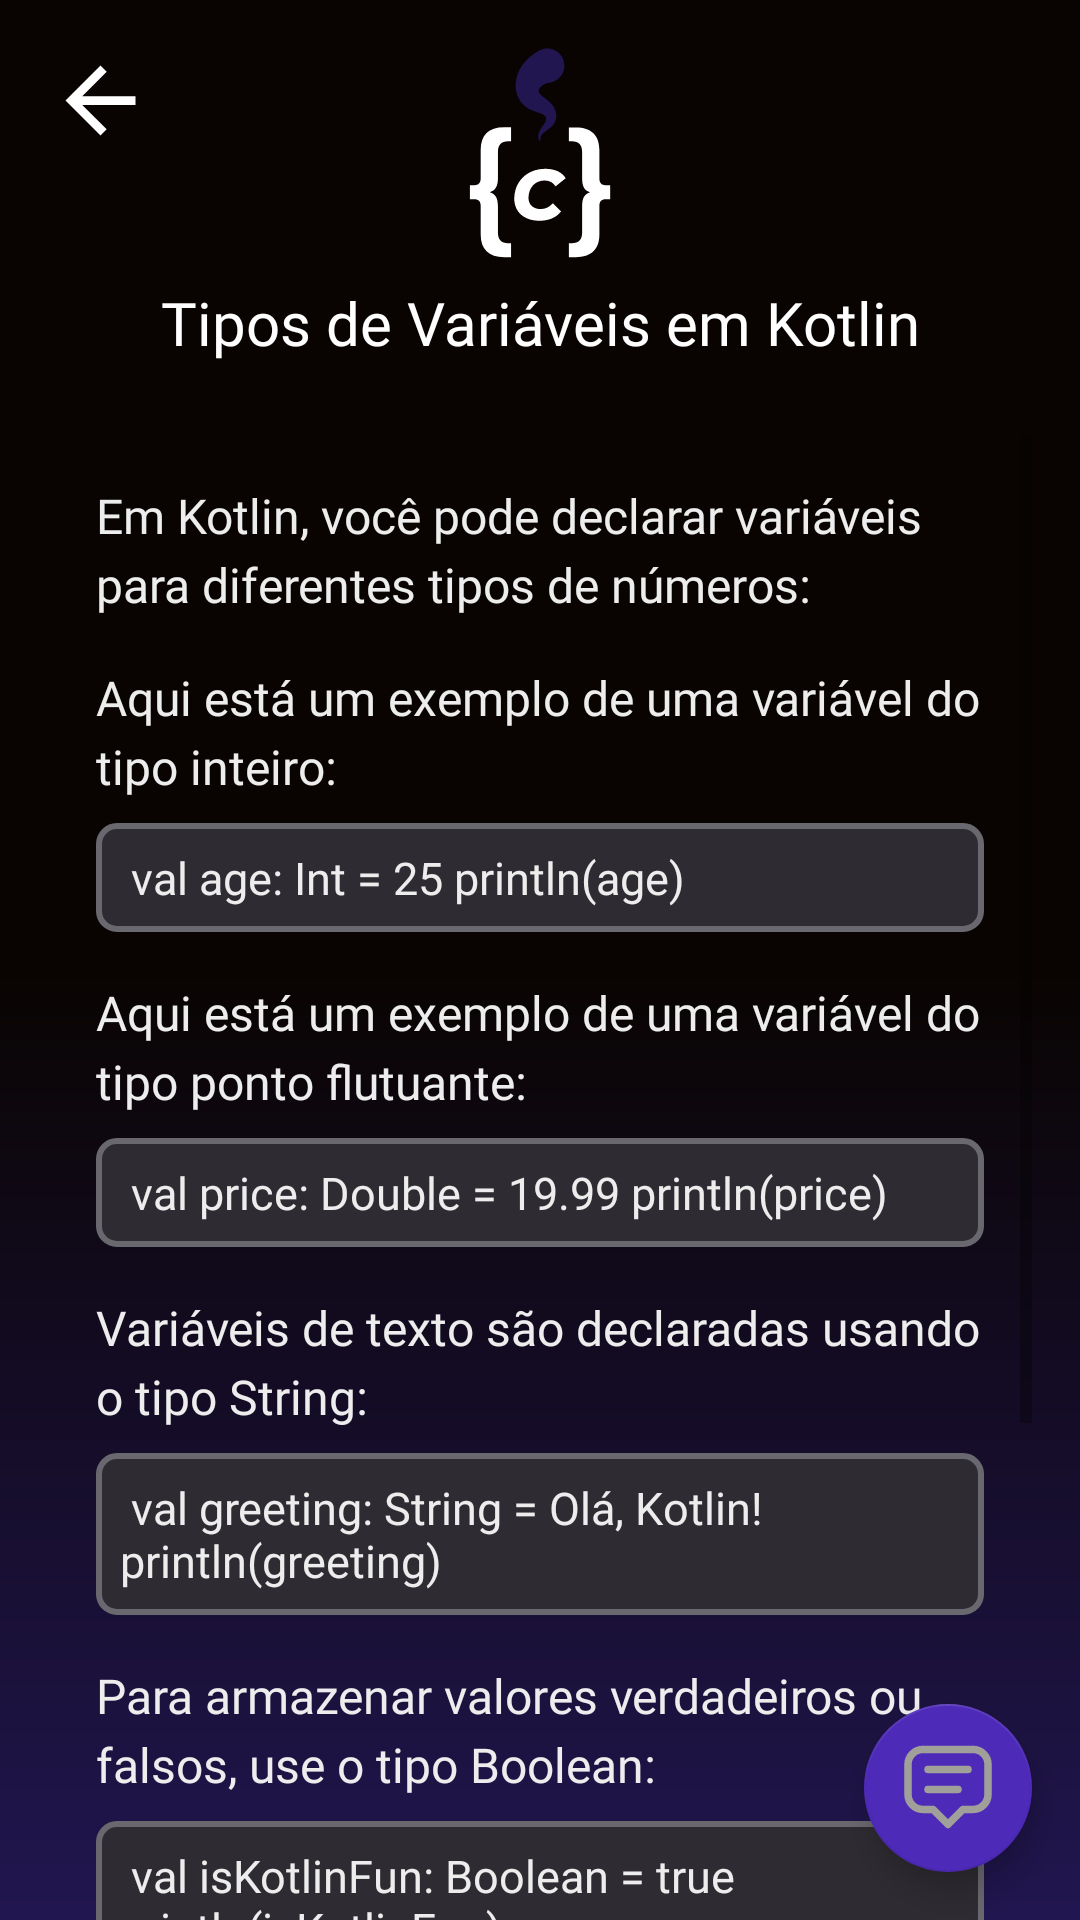

Screen size 1080x1920. Icon name, then its center in pixels as (x,y):
Botão para abrir o chat de IA: (948,1788)
Voltar: (100,100)
